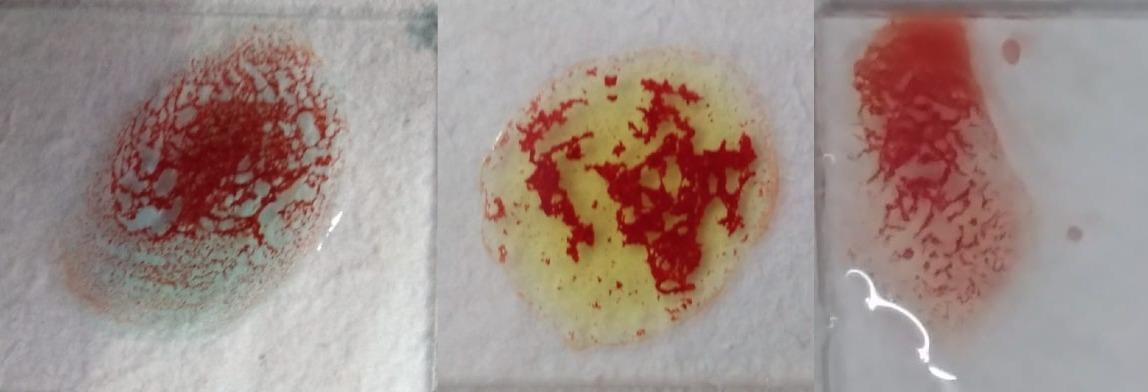A: (75, 29, 341, 336)
B: (487, 48, 776, 343)
D: (844, 14, 1052, 349)
